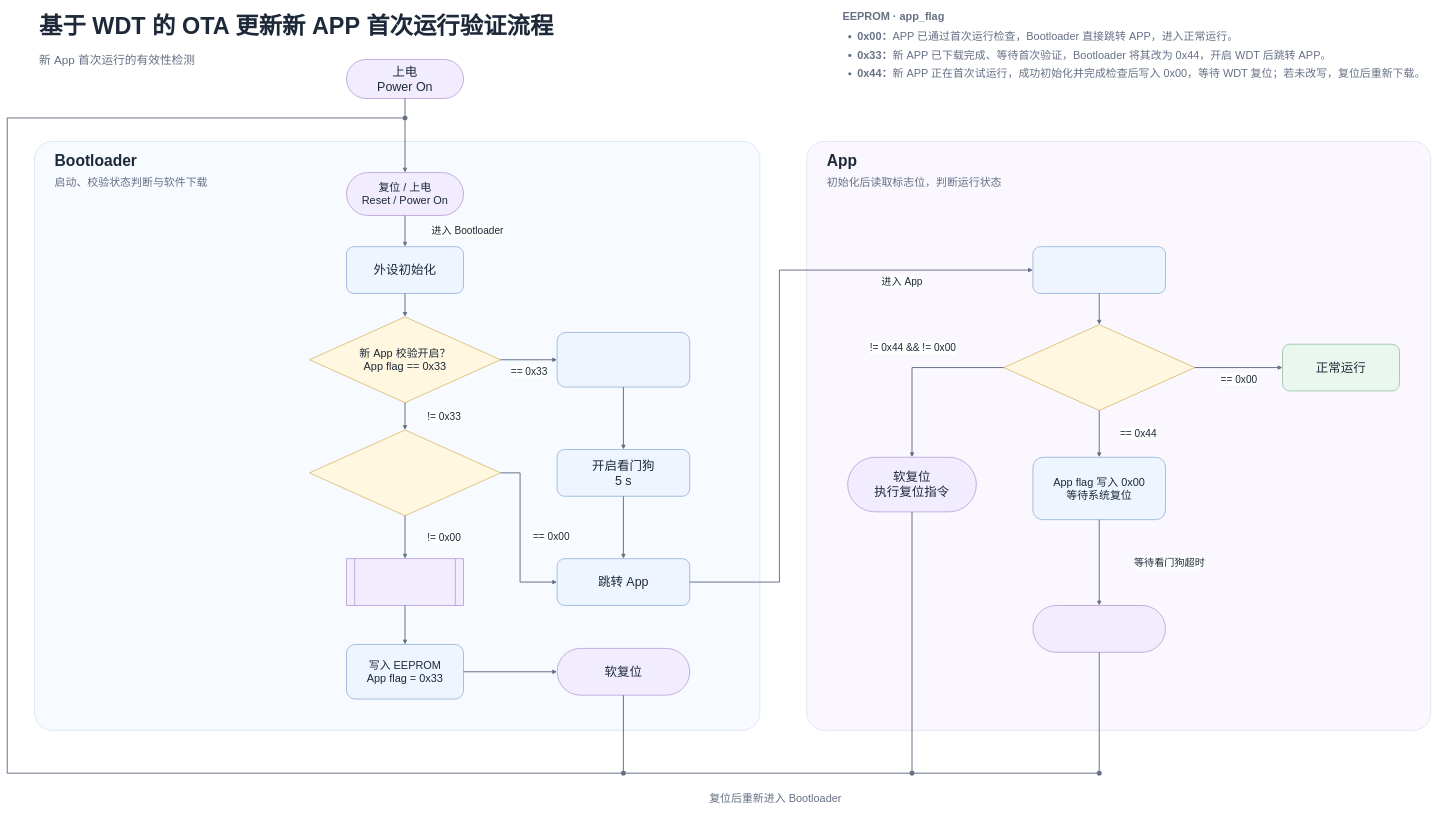
The diagram is 1438 pixels wide and 814 high, and some of its shapes have lost their labels. The shapes that lost their labels are listed below. From the top down, each one's box as (x1, y1, x2, y2) in pixels, then its label:
(1032, 246, 1166, 294): 初始化外设
(557, 332, 690, 387): 写入 EEPROM App flag = 0x44
(1003, 324, 1195, 411): 判断 App flag
(309, 429, 501, 516): App 已验证通过？ App flag == 0x00
(346, 558, 464, 606): 下载软件
(1032, 605, 1166, 652): 看门狗复位
